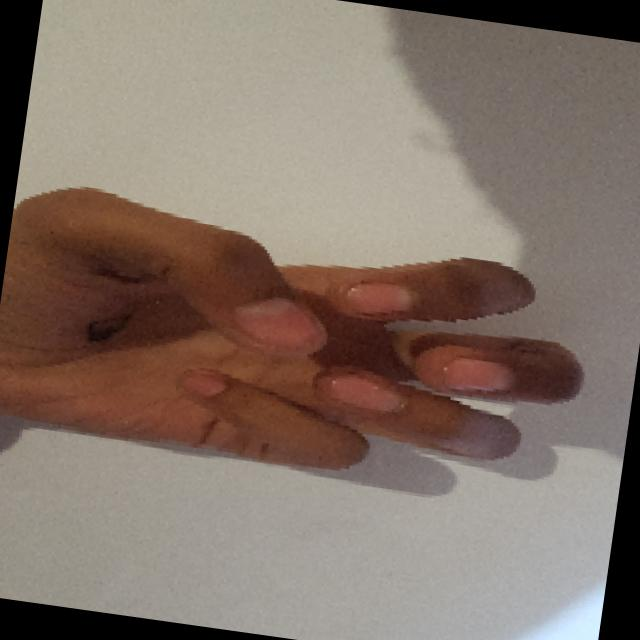Nail: (231, 297, 326, 357), (330, 374, 401, 411), (443, 358, 512, 389), (345, 281, 412, 312), (184, 370, 227, 398)
